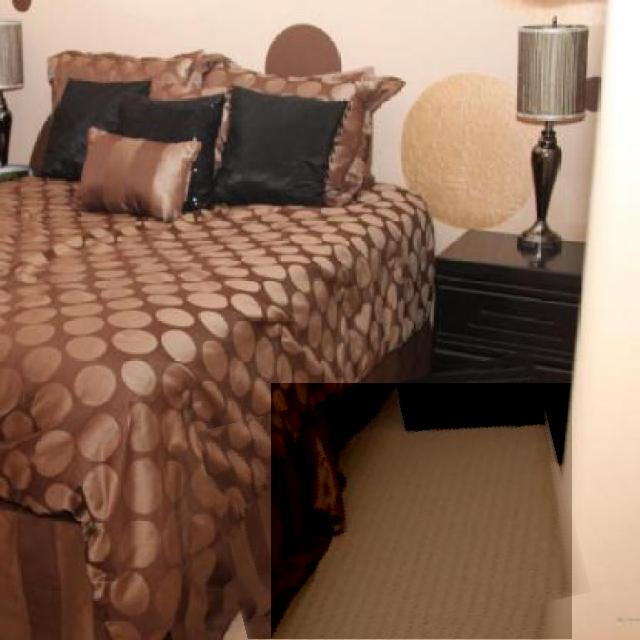floor: (272, 383, 572, 640)
